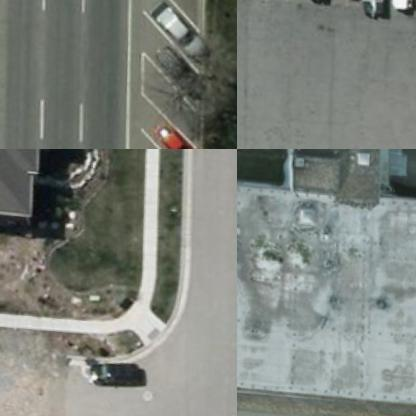car: (148, 46, 214, 100), (146, 6, 212, 59), (86, 358, 141, 395), (147, 124, 214, 148)
